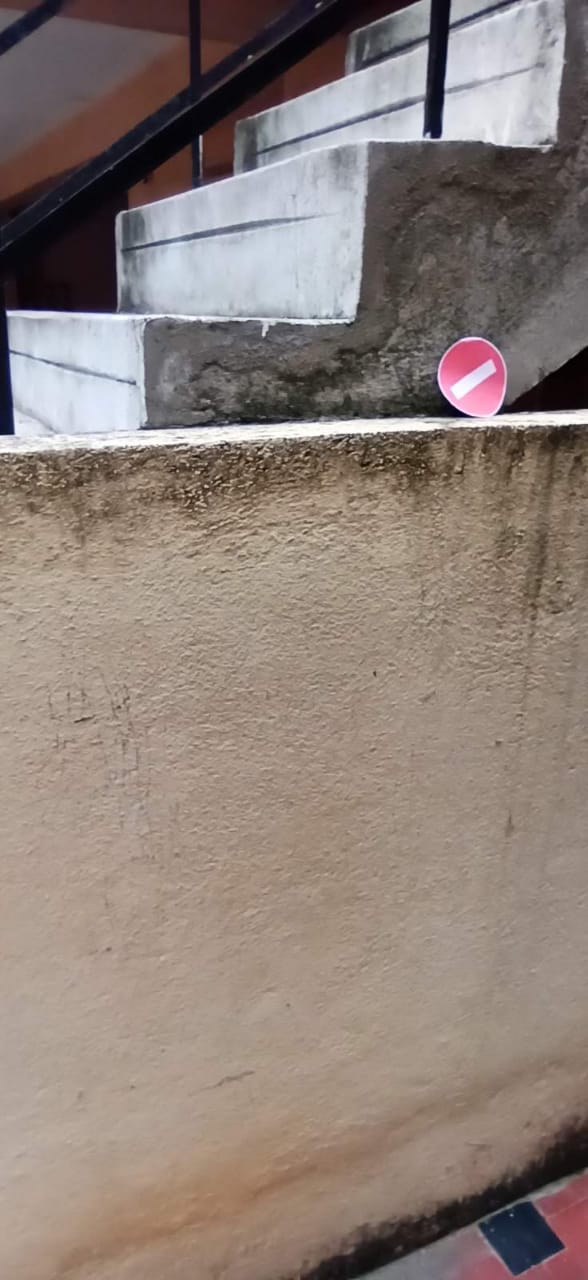NO ENTRY: (435, 334, 517, 429)
